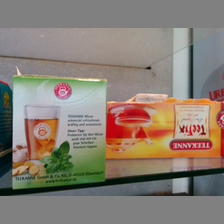tea: (11, 75, 108, 190), (107, 101, 224, 161)
